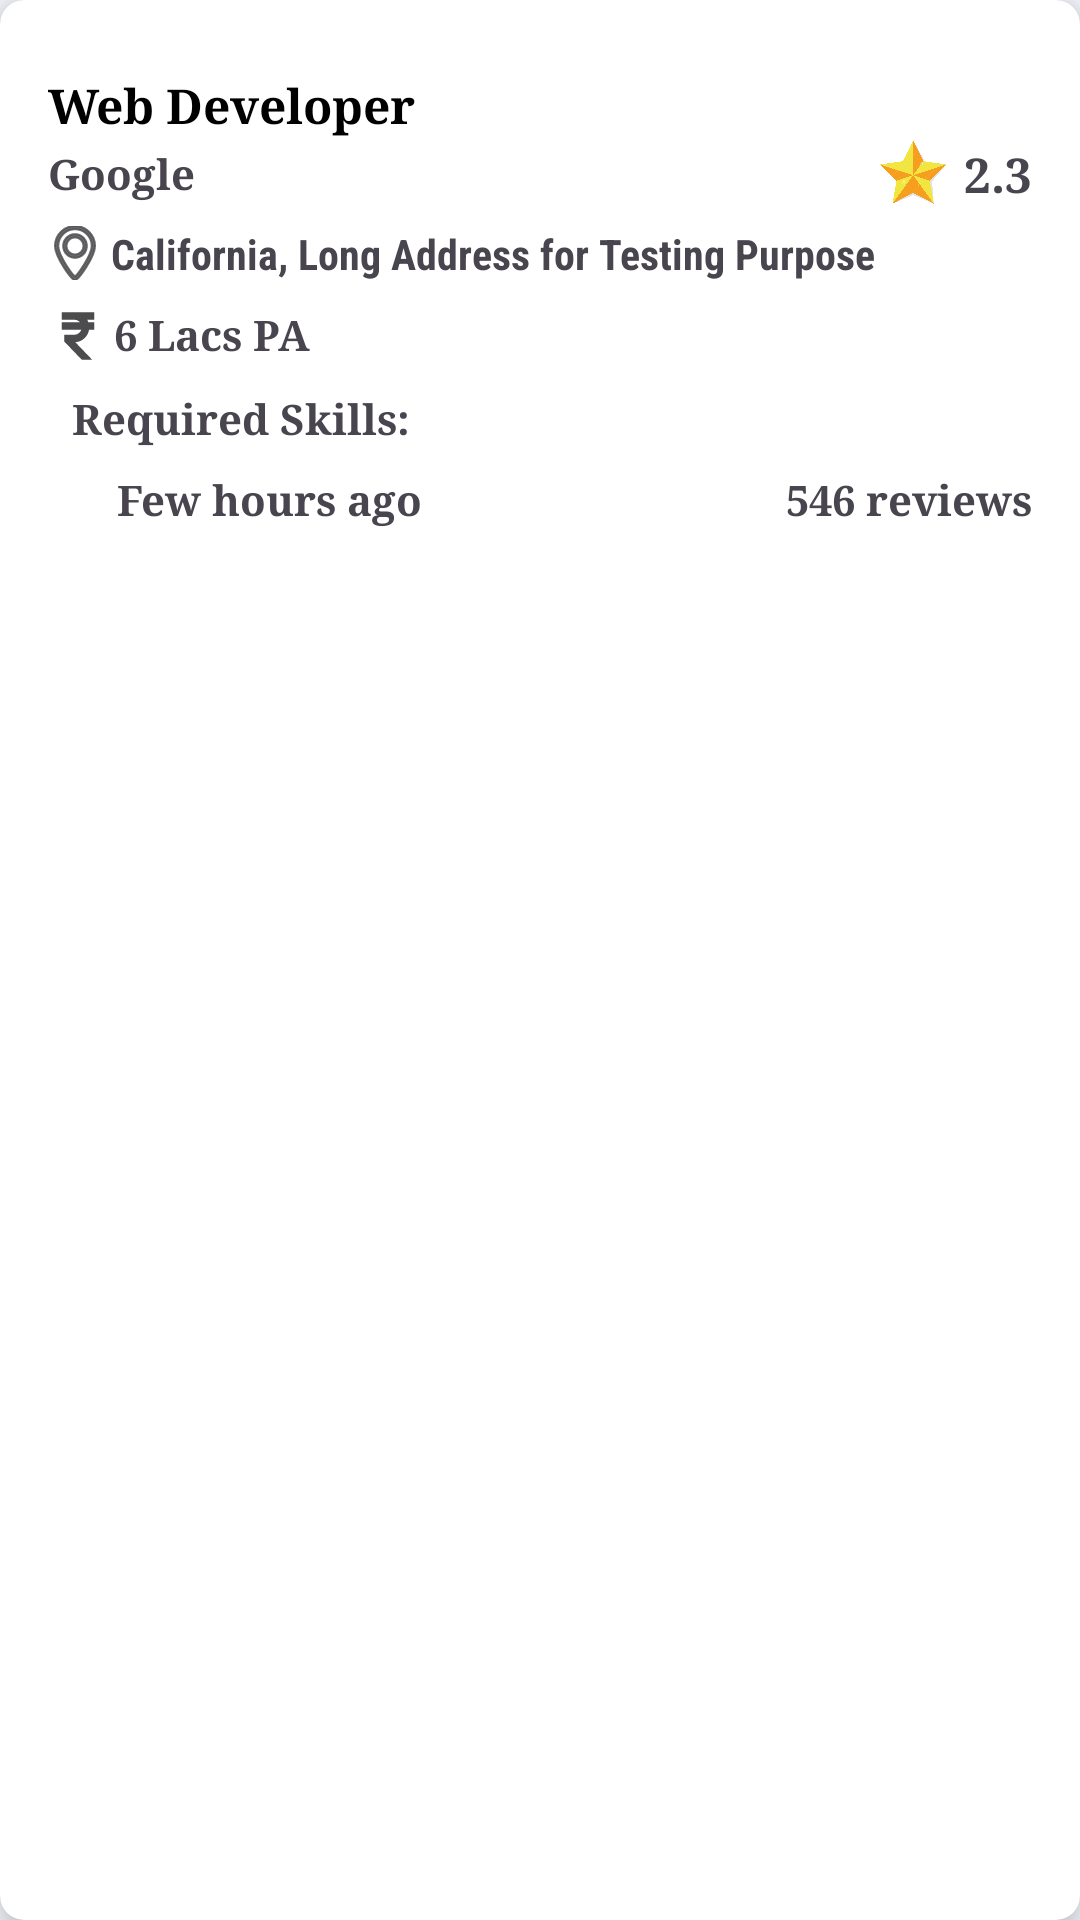

Point at icon controls on the screen. Image size 1080px x 1920px, points as [x,y].
location: [75,253]
rating: [913,172]
rupees: [78,336]
